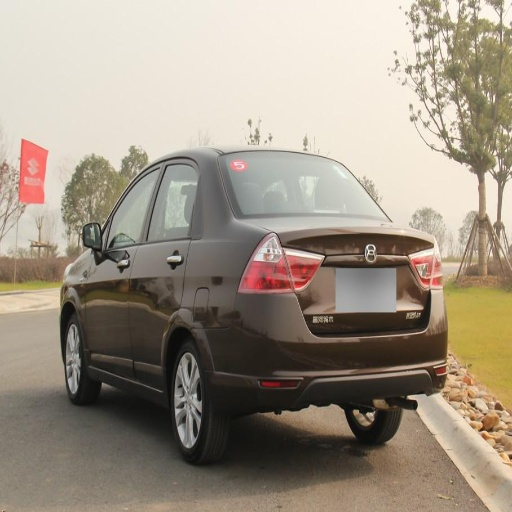back_bumper: (206, 294, 448, 413)
back_glass: (224, 153, 375, 215)
back_left_door: (133, 157, 200, 386)
